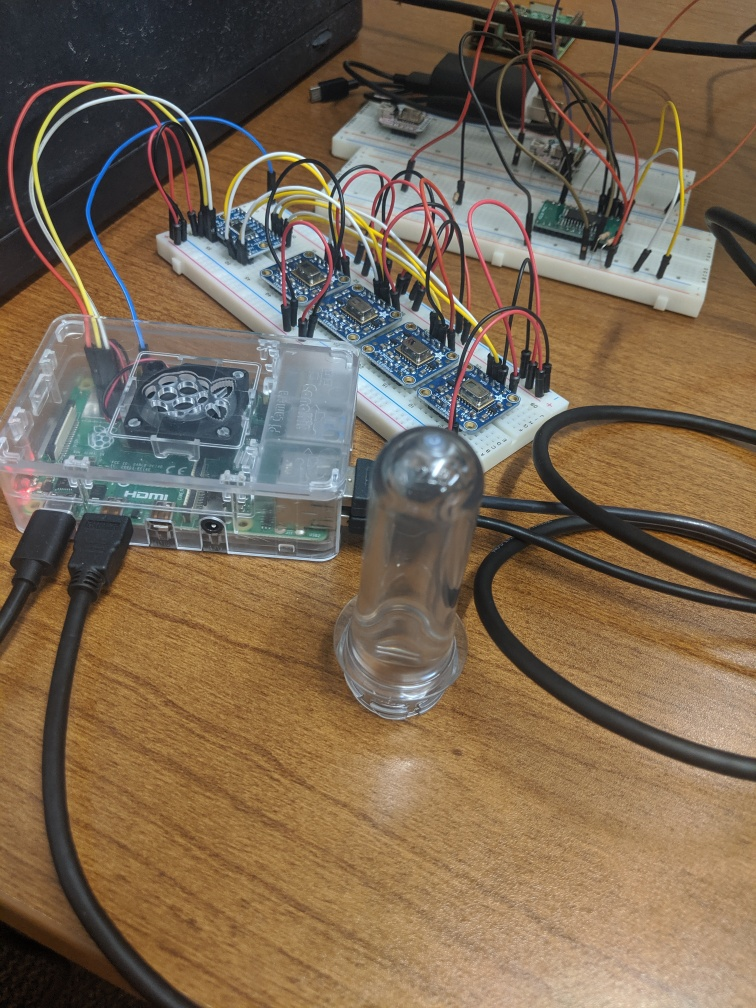preform: (323, 422, 491, 729)
